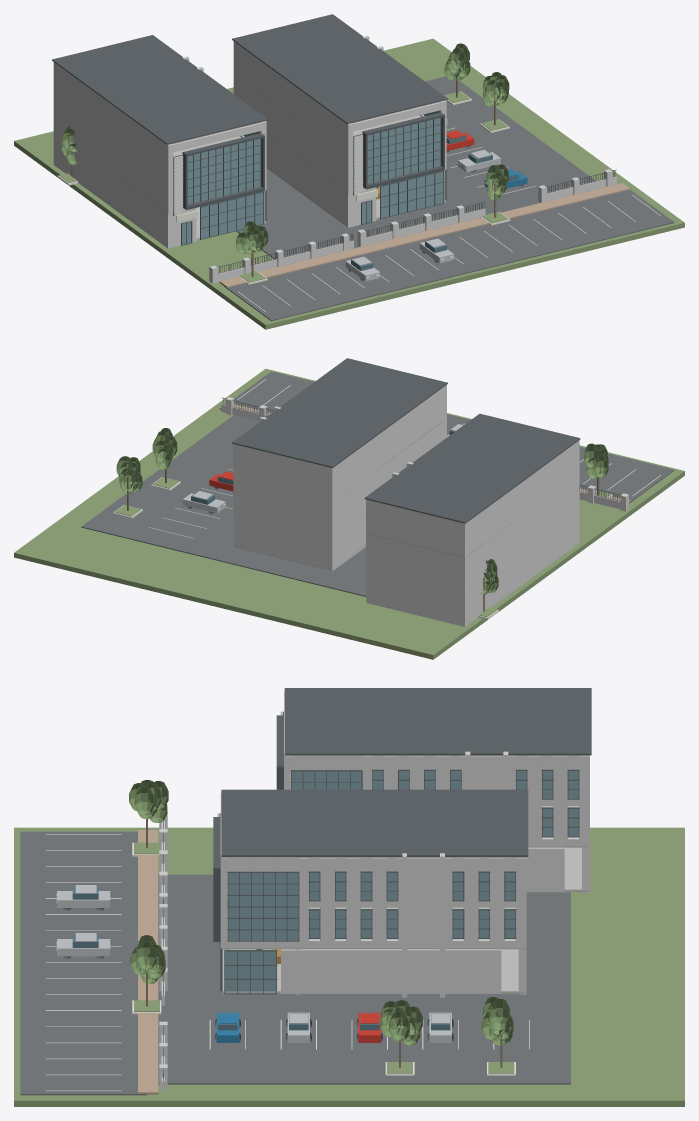
Rendered from estate-web.glb.
3 views of the same model, one above another, from view 1: azimuth 30°, elevation 25°; view 2: azimuth 150°, elevation 25°; view 3: azimuth 270°, elevation 25° (orthographic). The views are drawn at different scales.
Parts seen in each view (by area): view 1: static-1, static-5, static-0, static-7, static-2, static-10, static-8, static-4, static-6, static-13, static-3; view 2: static-0, static-7, static-1, static-5, static-8, static-4, static-6, static-13; view 3: static-5, static-1, static-7, static-0, static-2, static-8, static-10, static-4, static-13, static-6, static-3, static-12.
Boxes of the visible parts, x1=… form: static-1: x1=52, y1=14, x2=616, y2=280; static-5: x1=224, y1=76, x2=674, y2=321; static-0: x1=53, y1=35, x2=617, y2=283; static-7: x1=14, y1=38, x2=684, y2=329; static-2: x1=182, y1=110, x2=443, y2=244; static-10: x1=182, y1=117, x2=630, y2=287; static-8: x1=61, y1=43, x2=509, y2=254; static-4: x1=54, y1=68, x2=446, y2=245; static-6: x1=57, y1=91, x2=660, y2=311; static-13: x1=345, y1=119, x2=500, y2=281; static-3: x1=351, y1=131, x2=519, y2=270; static-0: x1=221, y1=385, x2=628, y2=626; static-7: x1=14, y1=368, x2=684, y2=659; static-1: x1=186, y1=358, x2=620, y2=523; static-5: x1=81, y1=371, x2=674, y2=596; static-8: x1=116, y1=428, x2=608, y2=594; static-4: x1=233, y1=387, x2=576, y2=623; static-6: x1=113, y1=379, x2=660, y2=619; static-13: x1=182, y1=423, x2=464, y2=513; static-5: x1=20, y1=831, x2=570, y2=1095; static-1: x1=63, y1=688, x2=591, y2=1081; static-7: x1=14, y1=827, x2=684, y2=1106; static-0: x1=159, y1=691, x2=589, y2=1091; static-2: x1=221, y1=771, x2=578, y2=991; static-8: x1=129, y1=779, x2=513, y2=1045; static-10: x1=138, y1=830, x2=158, y2=1094; static-4: x1=217, y1=711, x2=589, y2=993; static-13: x1=57, y1=885, x2=451, y2=1042; static-6: x1=45, y1=834, x2=529, y2=1091; static-3: x1=72, y1=885, x2=450, y2=1030; static-12: x1=216, y1=1012, x2=239, y2=1042.
Size of the model in its own units: 51.78 by 12.98 by 53.
